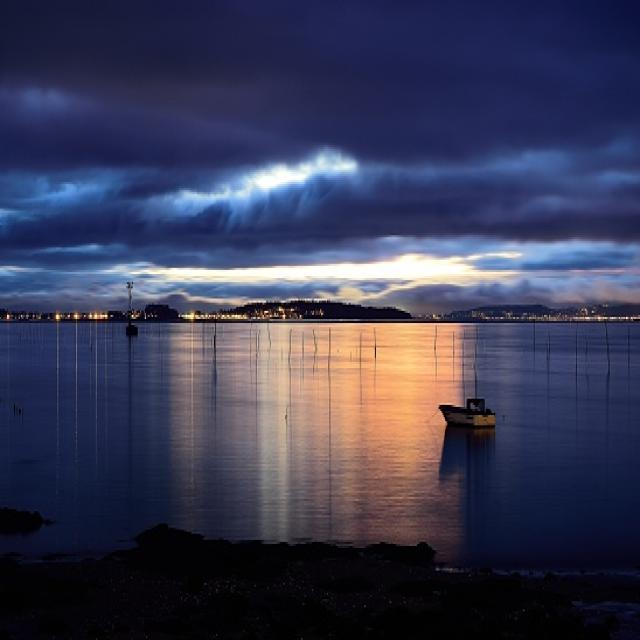Boat: (443, 385, 507, 455)
